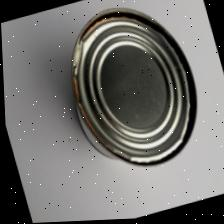metal: (40, 0, 224, 194)
